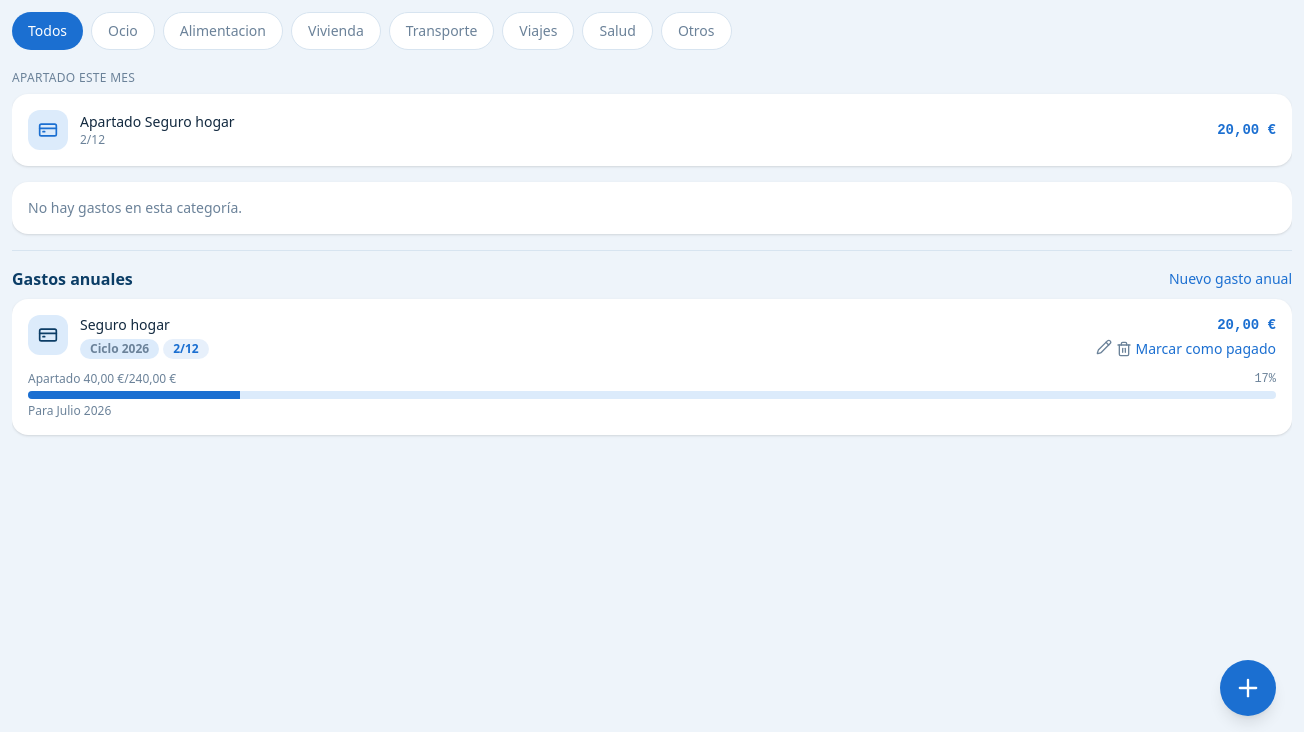
Test: GastosList › gastos anuales (confirmación sin window.confirm ni alert) › el error de "marcar como pagado" se pinta en la sección, sin alert
Click the button "Marcar como pagado". click: (1206, 349)
box: [1136,339,1276,359]
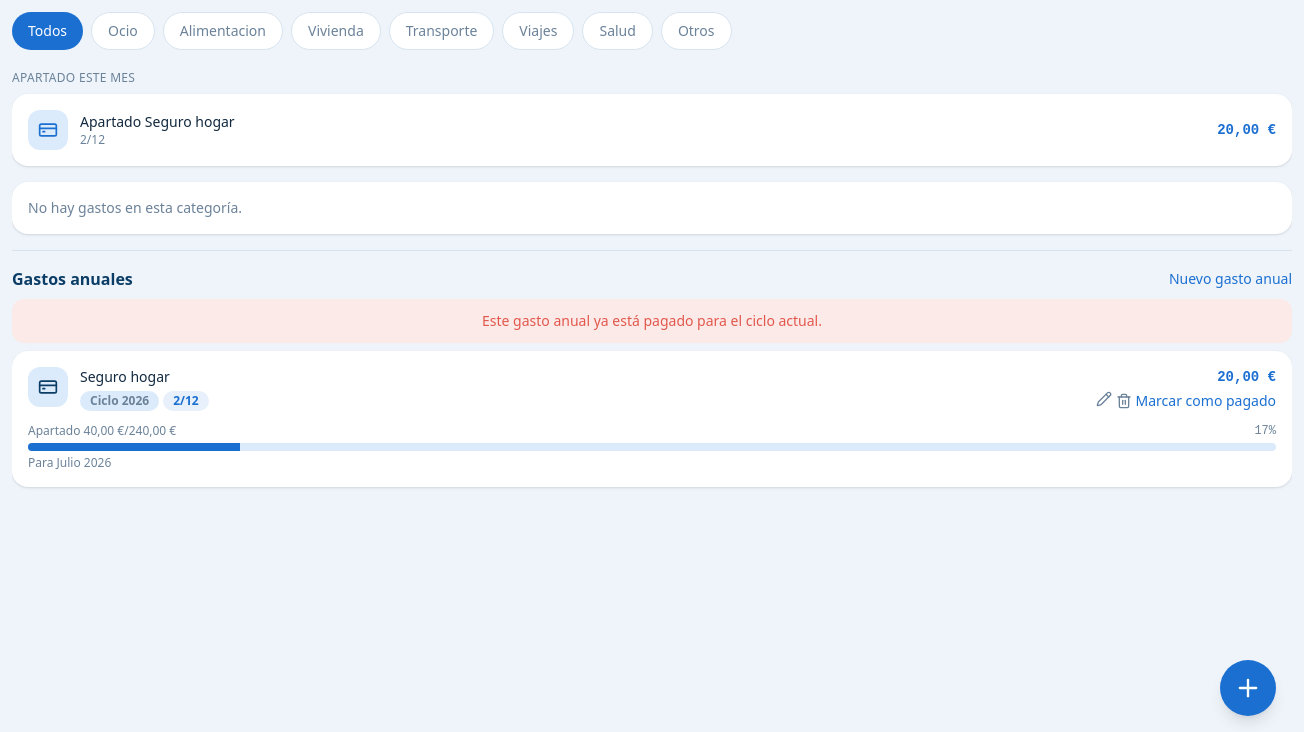
Expected: the text "Este gasto anual ya está pagado para el ciclo actual." is shown, [12,299,1292,343]
